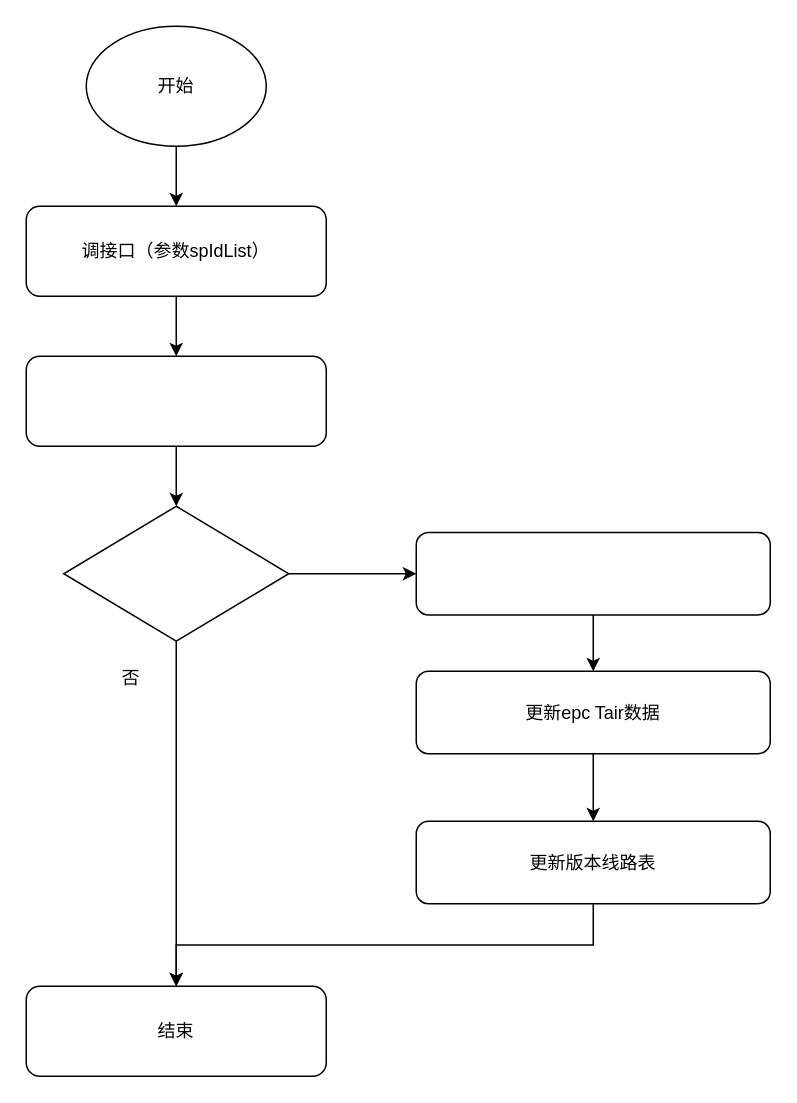
This 797x1103 diagram has some shape labels left out. The box of each missing label's shape, as (x1, y1, x2, y2) in pixels:
按spId查询 t_sc_ocean_fcl_offline_solution 最新版本有效数据（非deleted）: (25, 355, 326, 446)
是否有值: (62, 505, 289, 641)
有效数据复制到epc离线任务表（更新 t_sc_estimator_ocean_fcl_offline_solution）: (415, 531, 770, 615)
